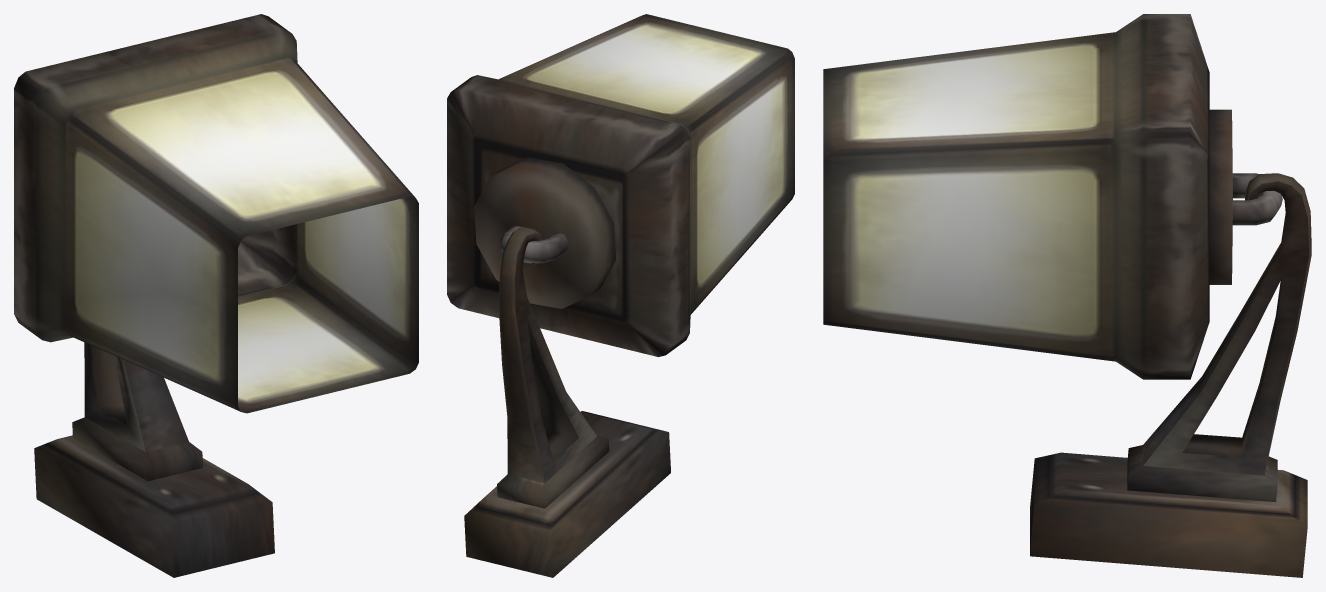
The model's file is Bandito_Lantern_003.FBX.
3 views of the same model, side by side, from view 1: azimuth 30°, elevation 25°; view 2: azimuth 150°, elevation 25°; view 3: azimuth 270°, elevation 25° (orthographic). The views are drawn at different scales.
Visible parts, largest first — view 1: Bandito_lantern_003; view 2: Bandito_lantern_003; view 3: Bandito_lantern_003.
Part boxes in pixels (x1,y1,x2,y2): Bandito_lantern_003: (14, 14, 418, 577); Bandito_lantern_003: (447, 14, 794, 577); Bandito_lantern_003: (823, 14, 1311, 577).
Bounding box in the file's own units: 0.4409 × 0.7904 × 0.7258.
